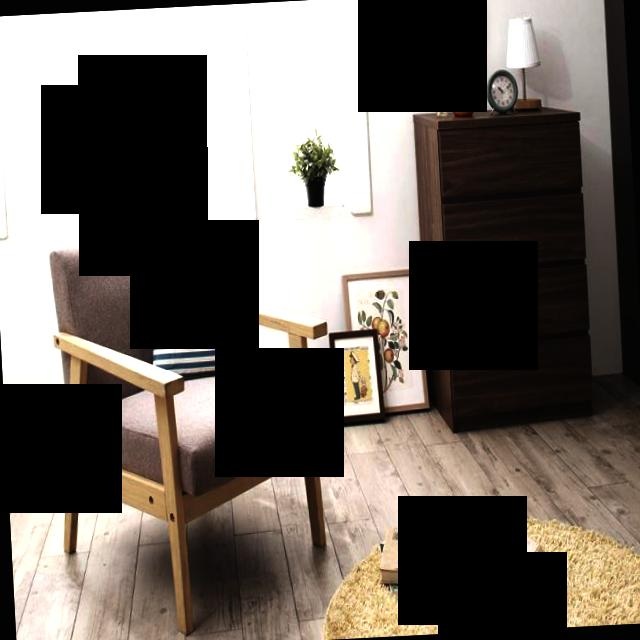natural chair: (39, 210, 346, 640)
natural shelf: (412, 94, 598, 439)
